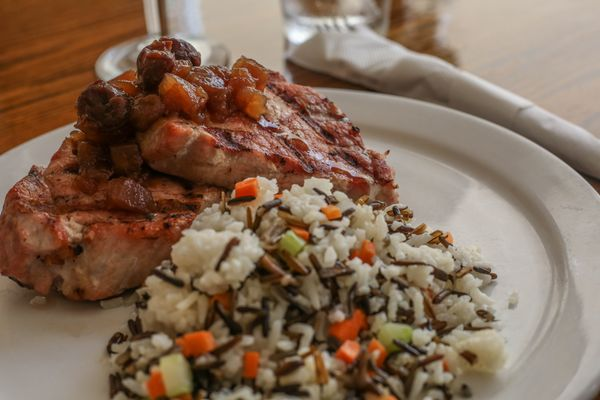pizza: (281, 0, 390, 45)
soup: (0, 31, 539, 391)
